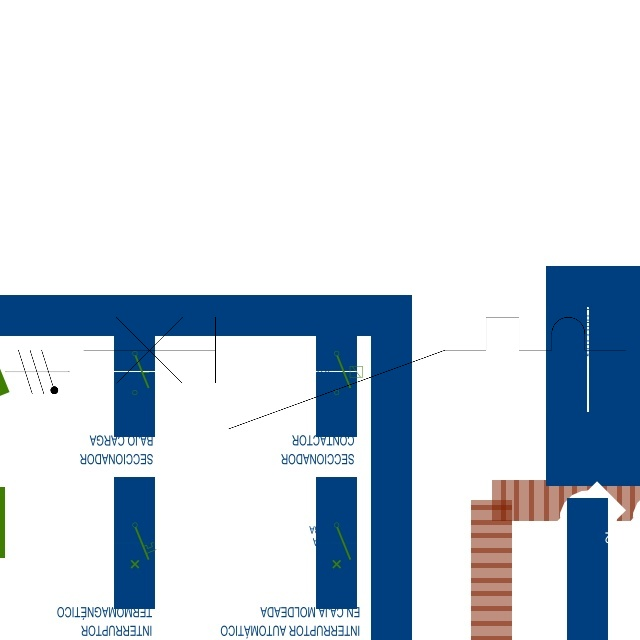interruptor_termomagnetico: (69, 303, 639, 442)
